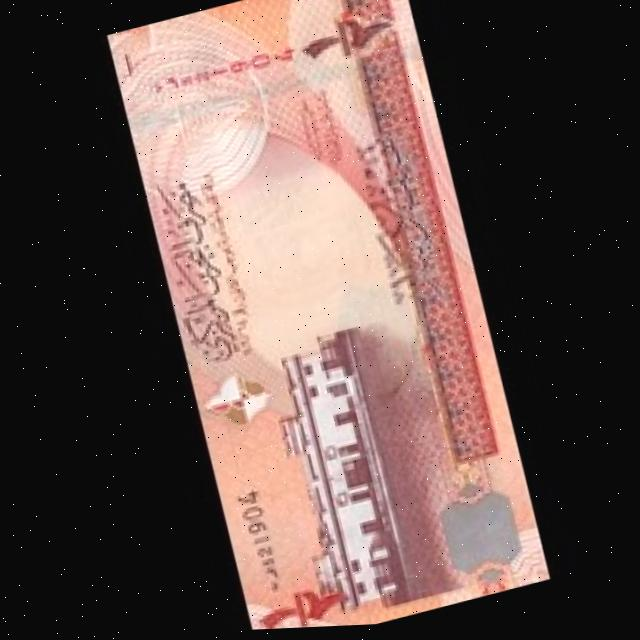banknote: (100, 0, 547, 637)
